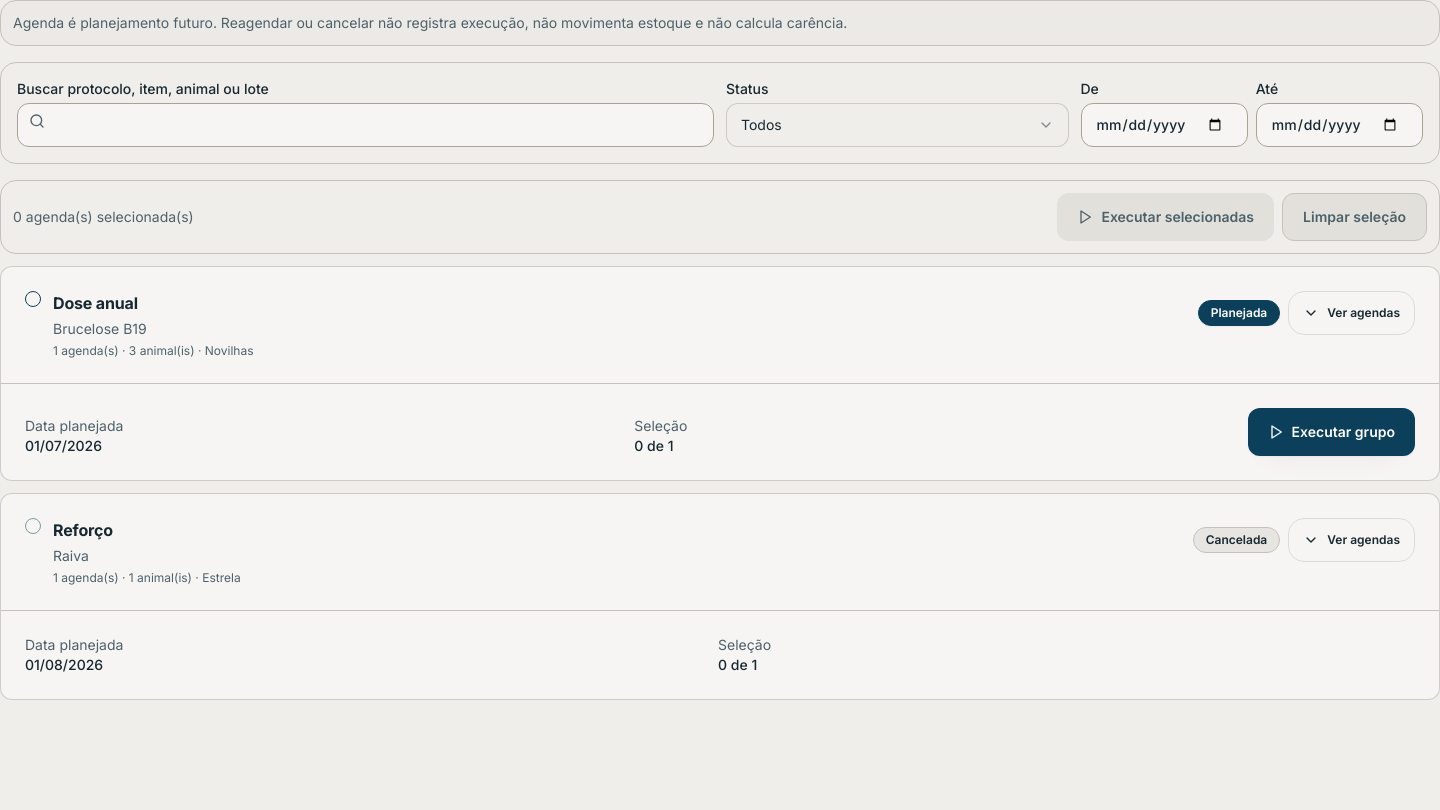
it: SanitaryLocalAgendaPanelV2 › filtra pelo conteúdo apresentado
Type "Estrela" into the field named "Buscar agenda sanitária". click: point(366, 125)
box: [17,103,714,147]
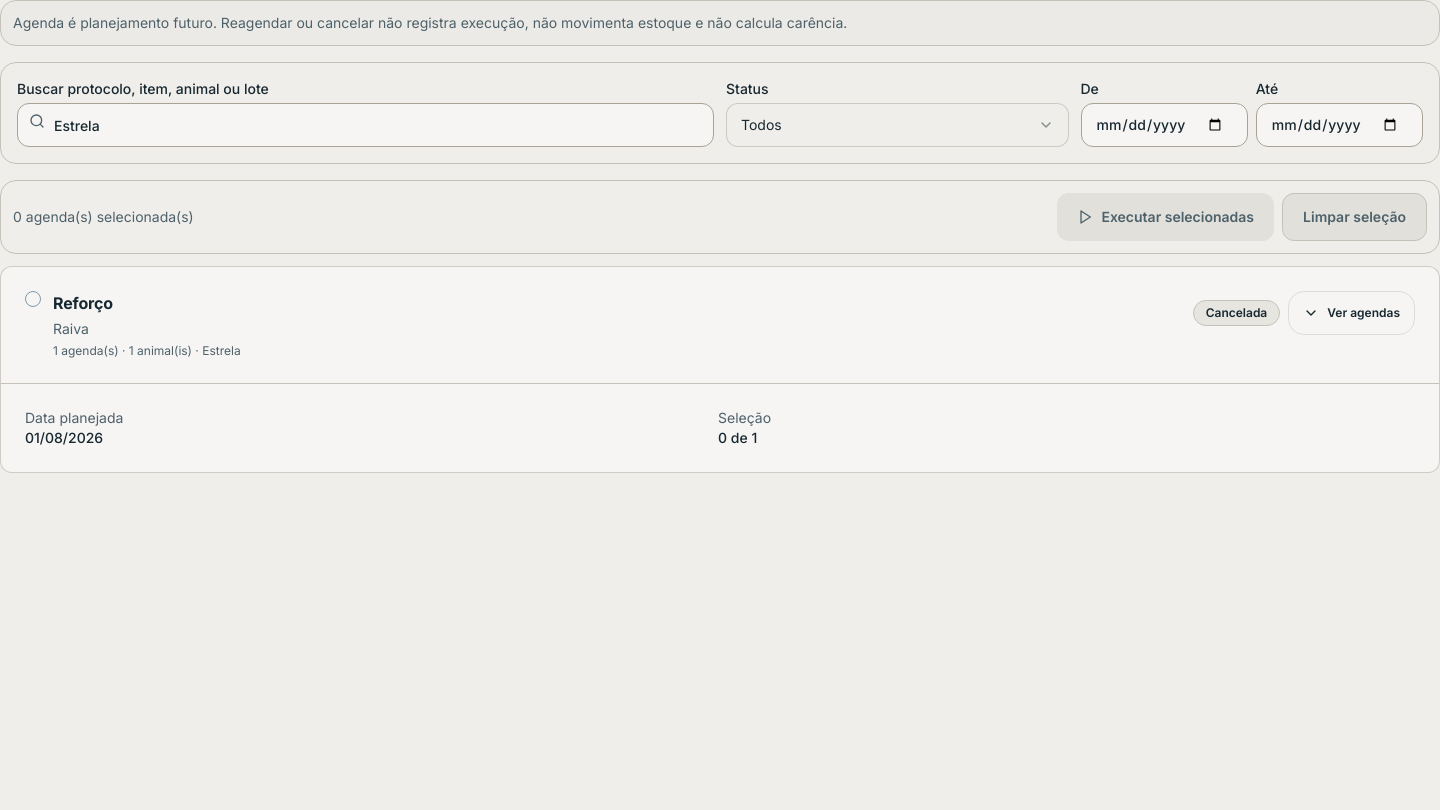
Expected: the text "Raiva" is shown, [53,320,89,337]
Result: the text "Brucelose B19" is gone
